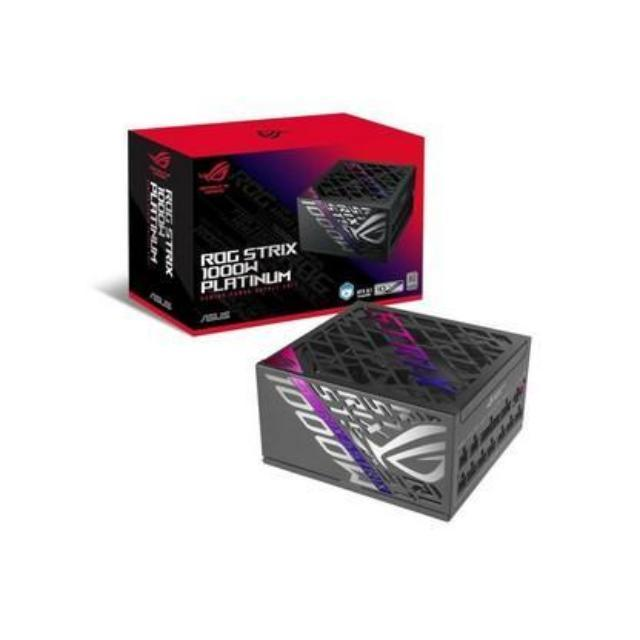PSU: (238, 298, 556, 524)
